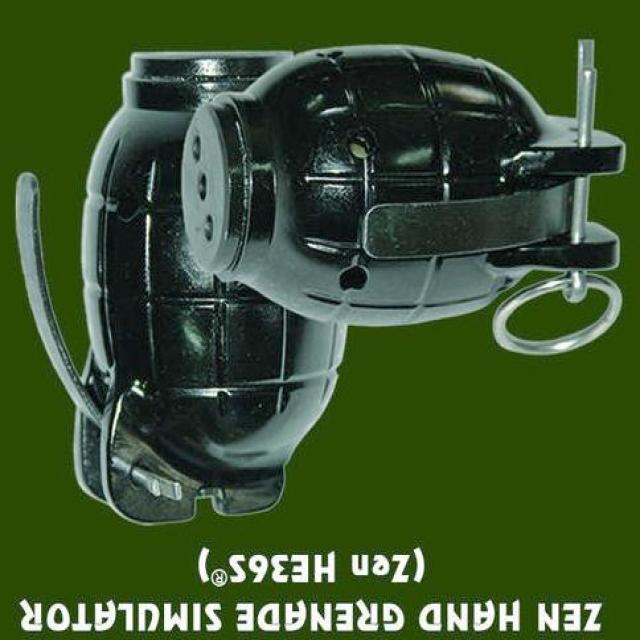grenade: (16, 52, 349, 527), (182, 39, 627, 356)
